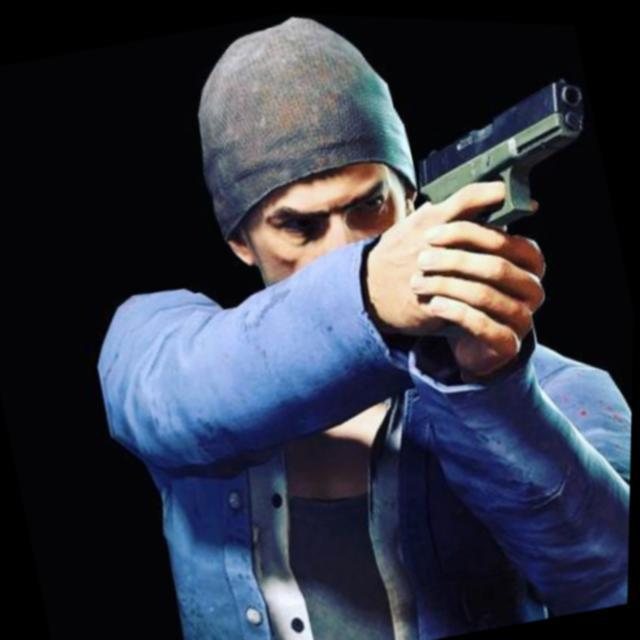weapon: (390, 56, 634, 330)
